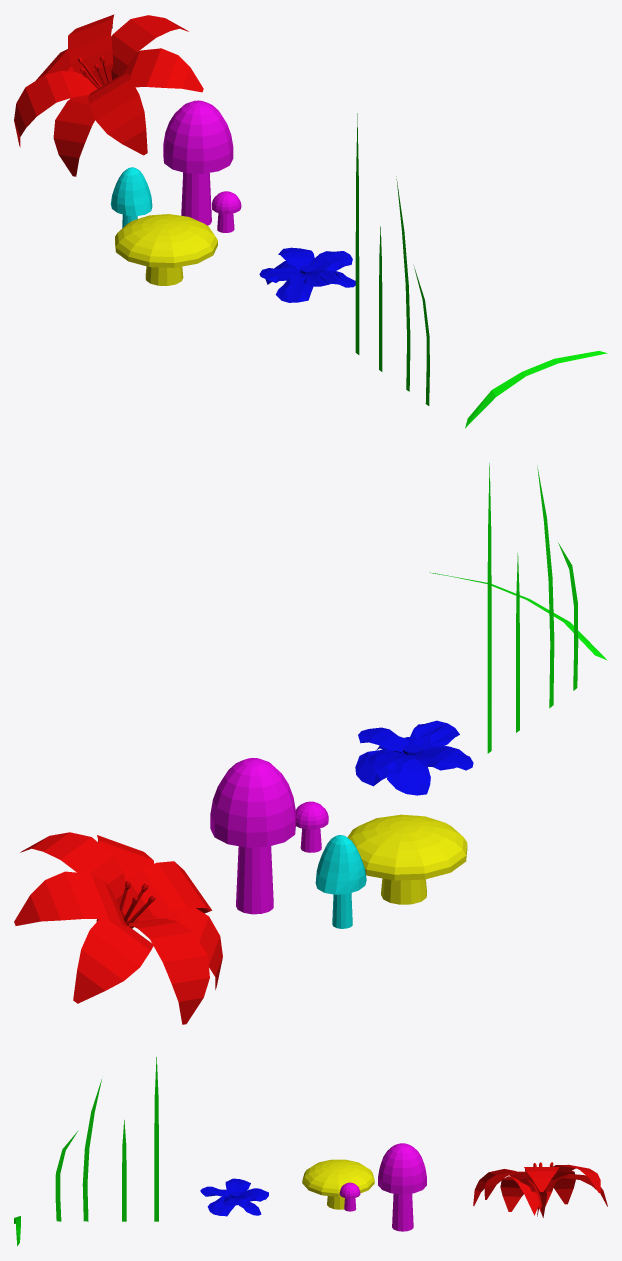
The model's file is foliage fbx.fbx.
The picture shows the model from 3 angles, top to bottom: view 1: azimuth 30°, elevation 25°; view 2: azimuth 150°, elevation 25°; view 3: azimuth 270°, elevation 25°; orthographic projection. The views are drawn at different scales.
Parts seen in each view (by area): view 1: grass_strand_11; view 2: grass_strand_11; view 3: grass_strand_11.
Part boxes in pixels (left/top/right/bottom): grass_strand_11: left=14, top=14, right=607, bottom=428; grass_strand_11: left=14, top=463, right=607, bottom=1024; grass_strand_11: left=14, top=1057, right=607, bottom=1245.
Bounding box in the file's own units: 179 × 165 × 517.
